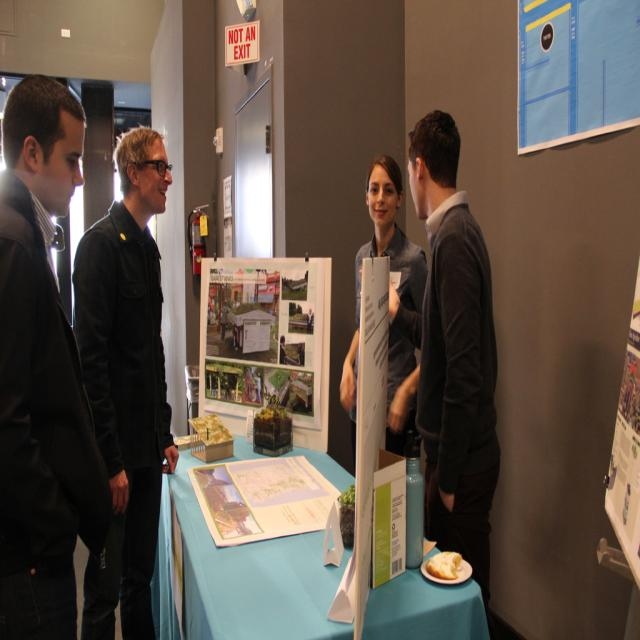Table: (152, 420, 491, 640)
